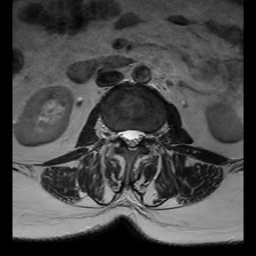CCS_normal: (127, 120, 136, 156)
LFS_stenosis: (144, 121, 153, 147)
LLS_normal: (136, 121, 144, 151)
RFS_normal: (110, 120, 119, 146)
RLS_normal: (119, 121, 127, 148)
